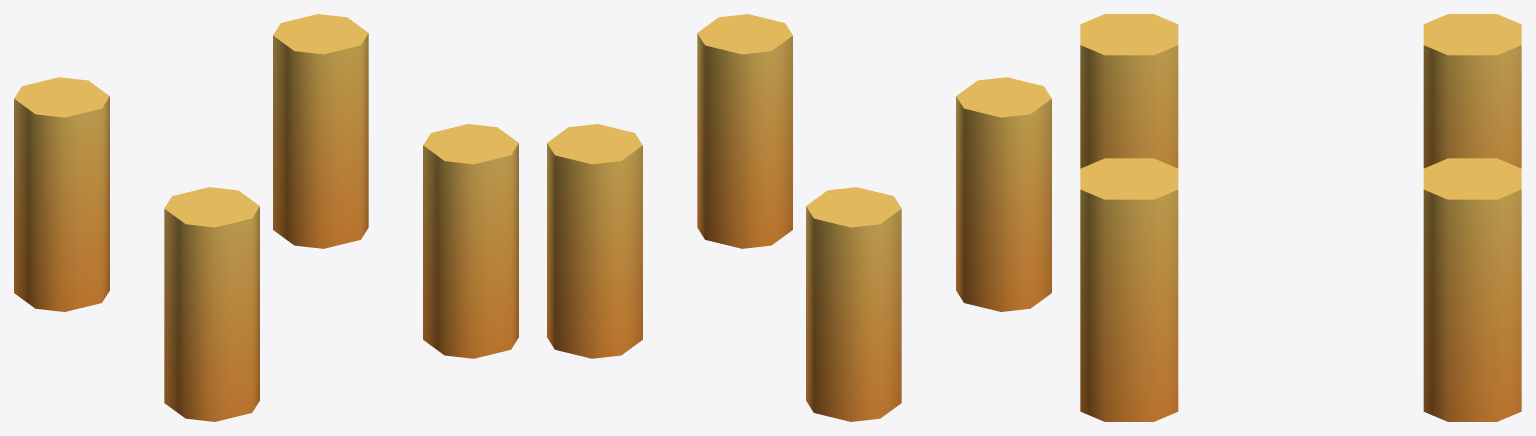
Rendered from support-color-four-middle.glb.
3 views of the same model, side by side, from view 1: azimuth 30°, elevation 25°; view 2: azimuth 150°, elevation 25°; view 3: azimuth 270°, elevation 25° (orthographic). The views are drawn at different scales.
Parts seen in each view (by area): view 1: support-color-four-middle; view 2: support-color-four-middle; view 3: support-color-four-middle.
Boxes of the visible parts, x1,y1,x2,y2 form: support-color-four-middle: [14, 14, 518, 421]; support-color-four-middle: [547, 14, 1051, 421]; support-color-four-middle: [1080, 14, 1521, 421].
Size of the model in its own units: 0.8969 by 0.5001 by 0.9.
1 material, 1 textured.
